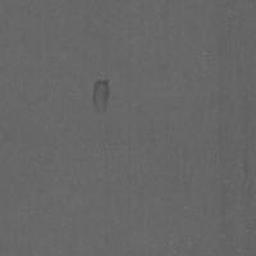Water spot: (92, 80, 110, 112)
